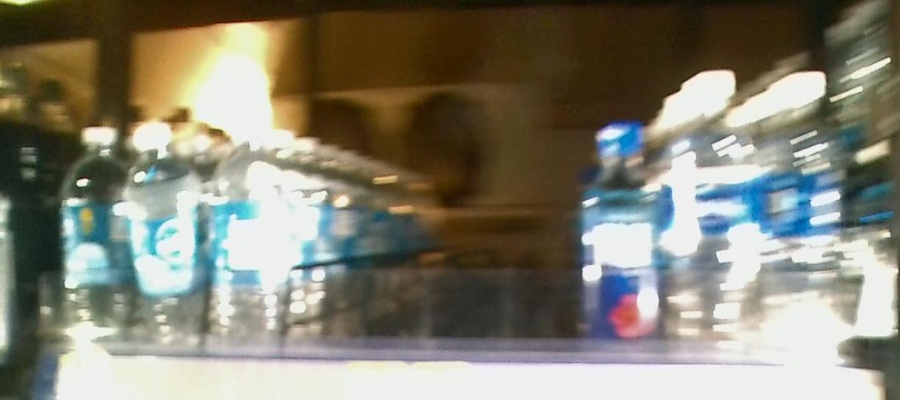bottle: (765, 69, 851, 363), (671, 70, 757, 359), (580, 108, 665, 353), (59, 113, 129, 354), (132, 126, 204, 352), (209, 127, 277, 362)
